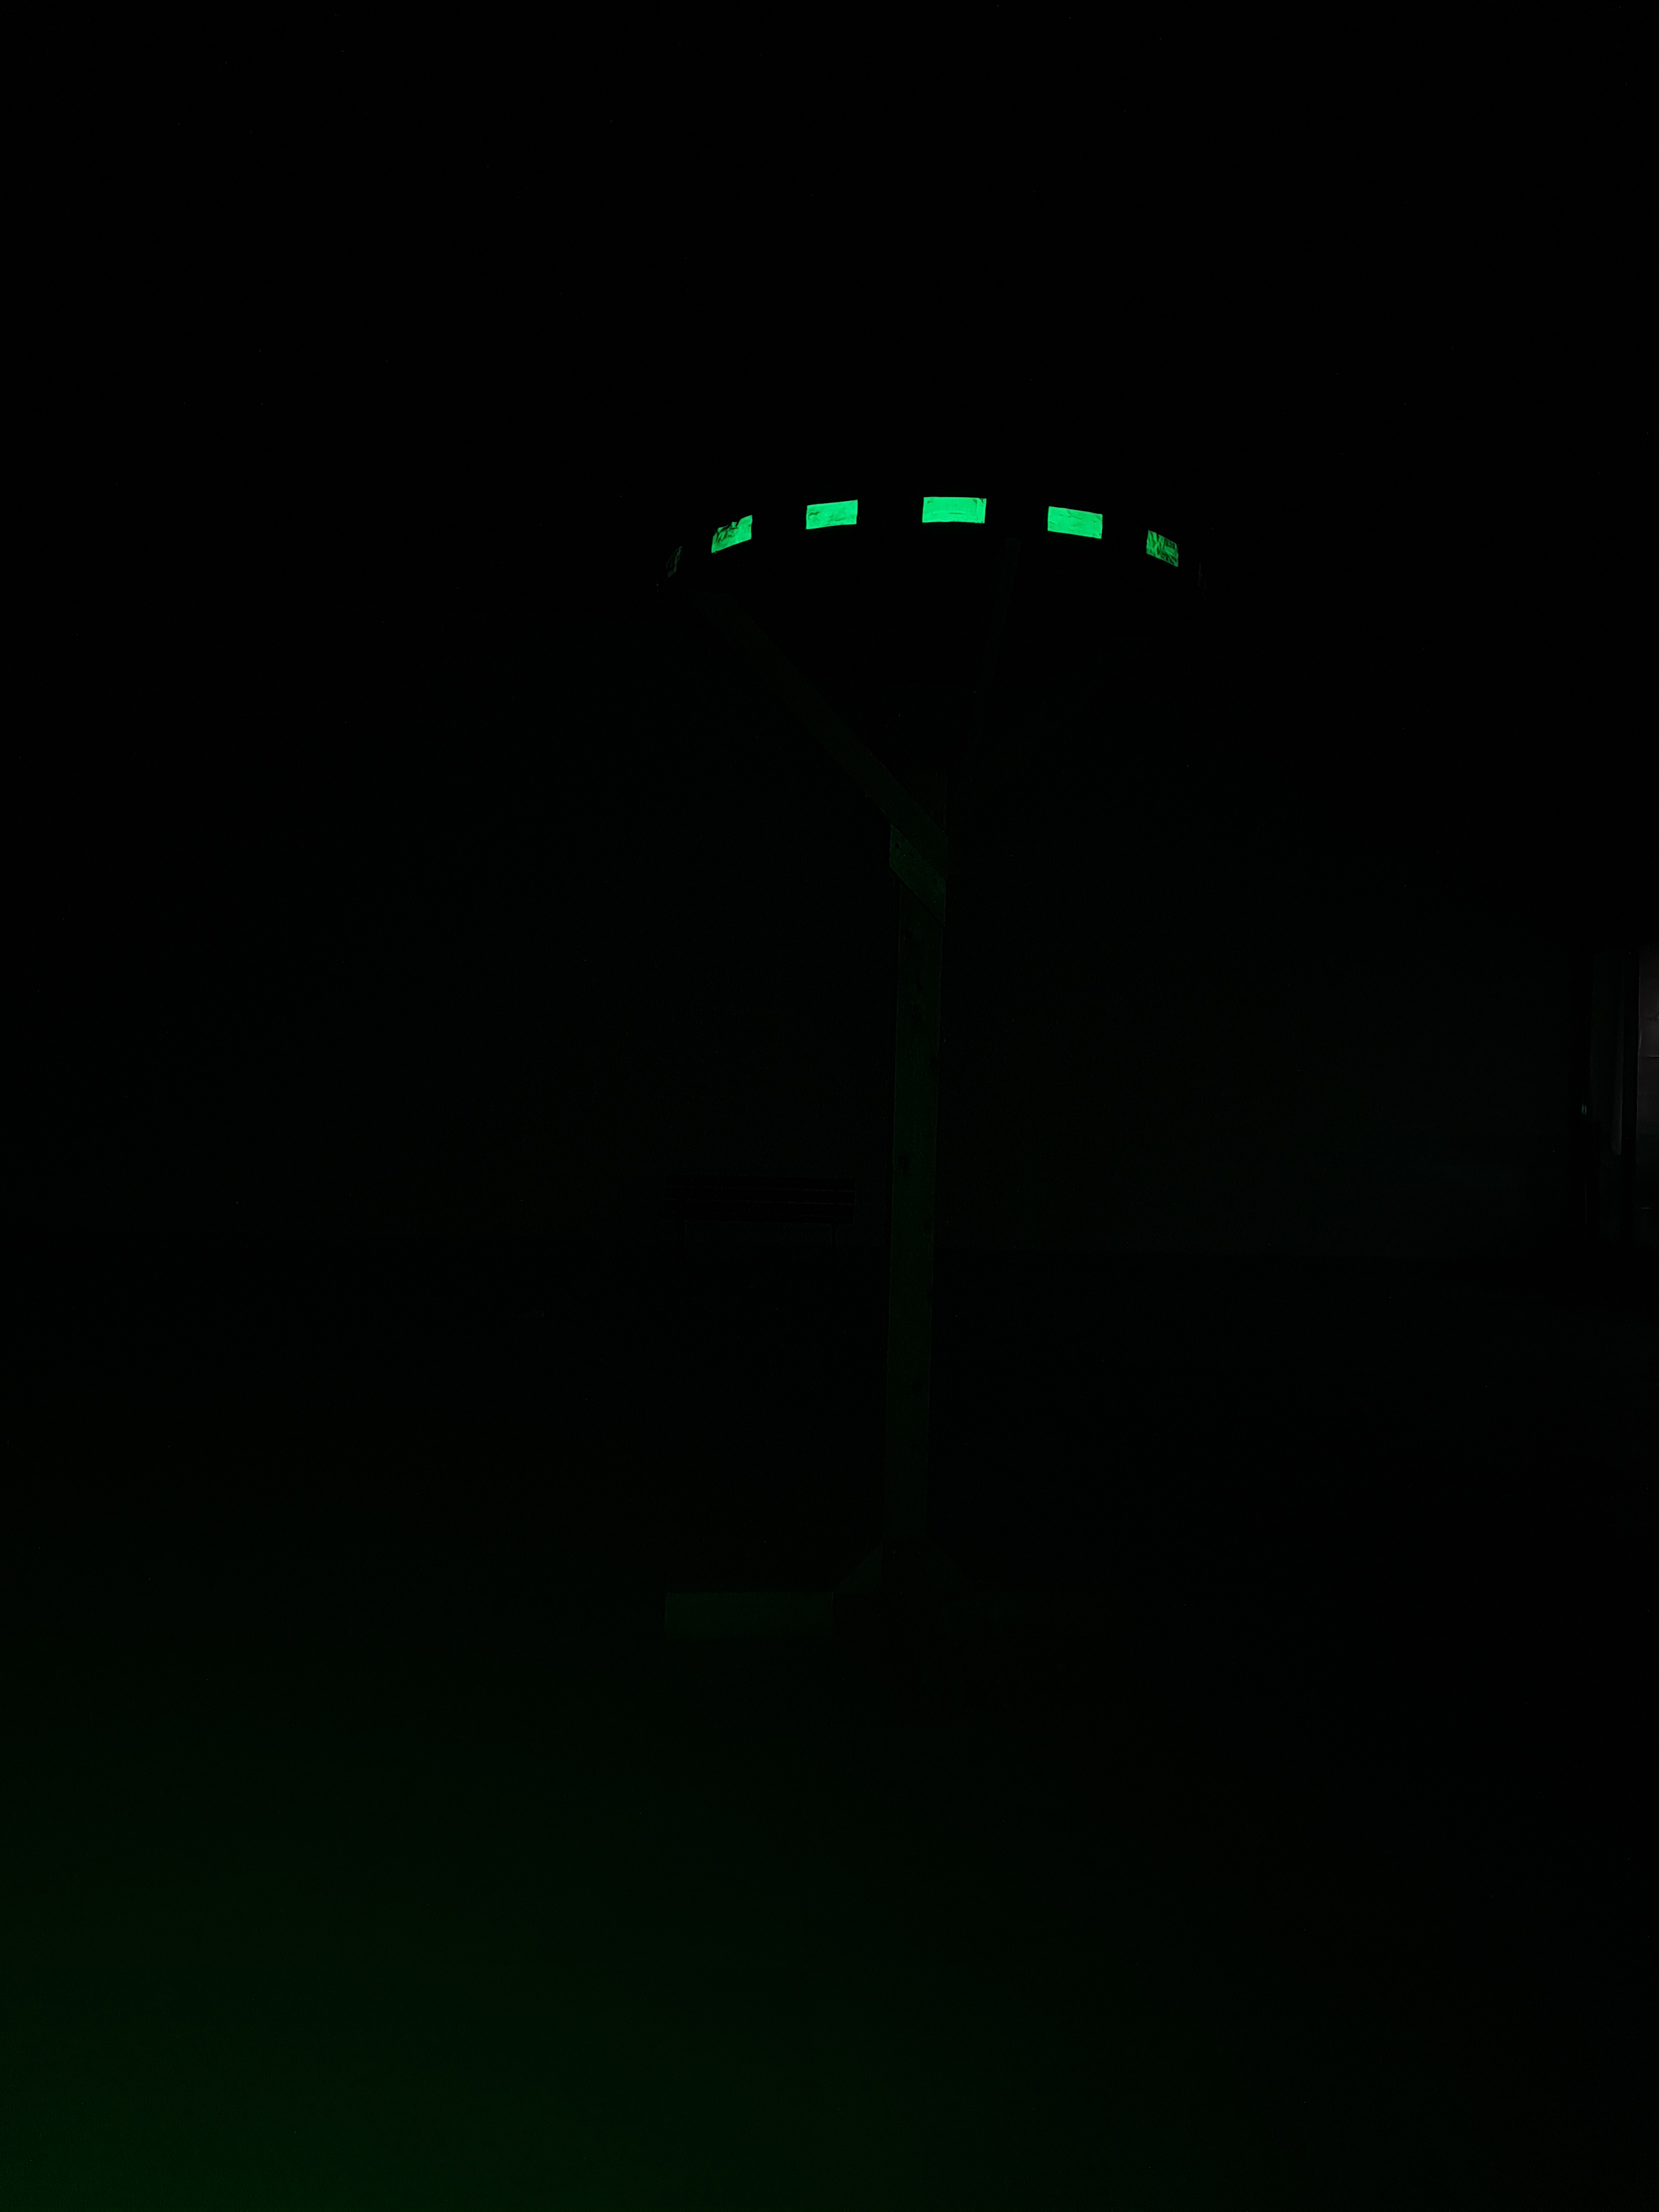hoop: (708, 493, 1182, 571)
